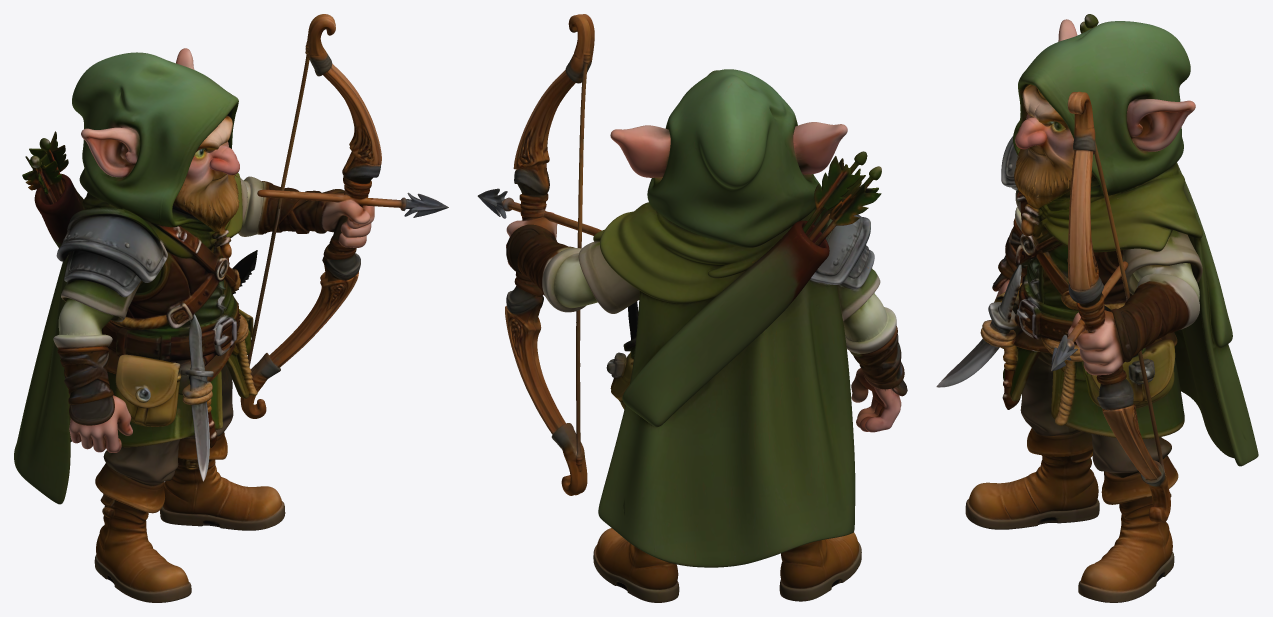
The model's file is gnome_ranger_full_male_01.glb.
3 renders of one model, left to right at view 1: azimuth 30°, elevation 25°; view 2: azimuth 150°, elevation 25°; view 3: azimuth 270°, elevation 25°, orthographic. The views are drawn at different scales.
Parts seen in each view (by area): view 1: material; view 2: material; view 3: material.
Part boxes in pixels (x1,y1,x2,y2): material: (14,14,448,602); material: (477,14,907,602); material: (936,14,1258,602).
Size of the model in its own units: 0.8534 by 1.01 by 0.5554.
Materials: 1 (1 with a texture image).
